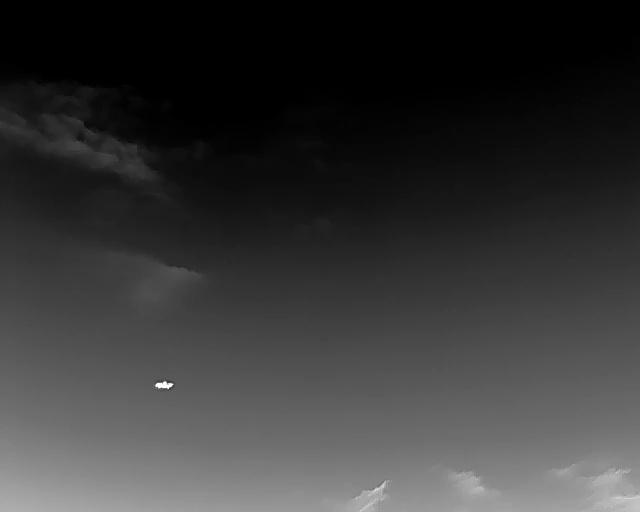fpv-drone: (154, 380, 174, 391)
